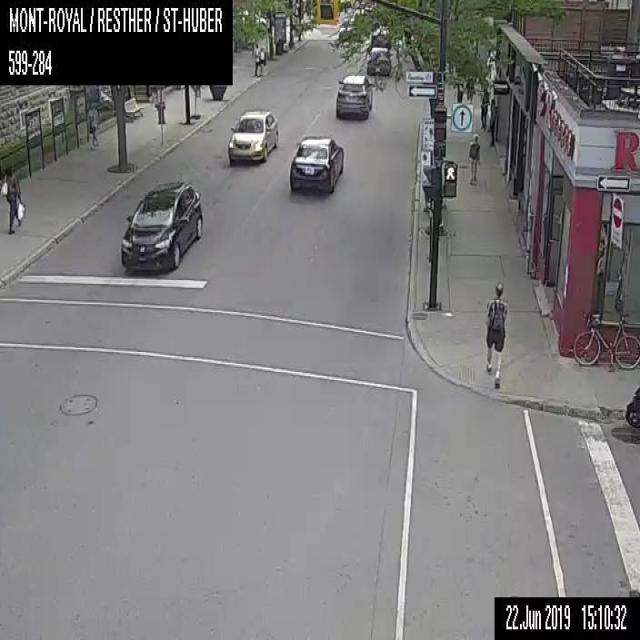pedestrian: (485, 279, 507, 389), (0, 167, 25, 234), (468, 134, 479, 182), (88, 106, 98, 150), (487, 98, 495, 146), (480, 91, 489, 129), (253, 41, 260, 76), (465, 79, 474, 101), (260, 46, 264, 74)
vehicle: (119, 182, 202, 270), (289, 136, 343, 192), (227, 110, 278, 162), (335, 75, 374, 118), (366, 46, 392, 75), (371, 25, 390, 46)
